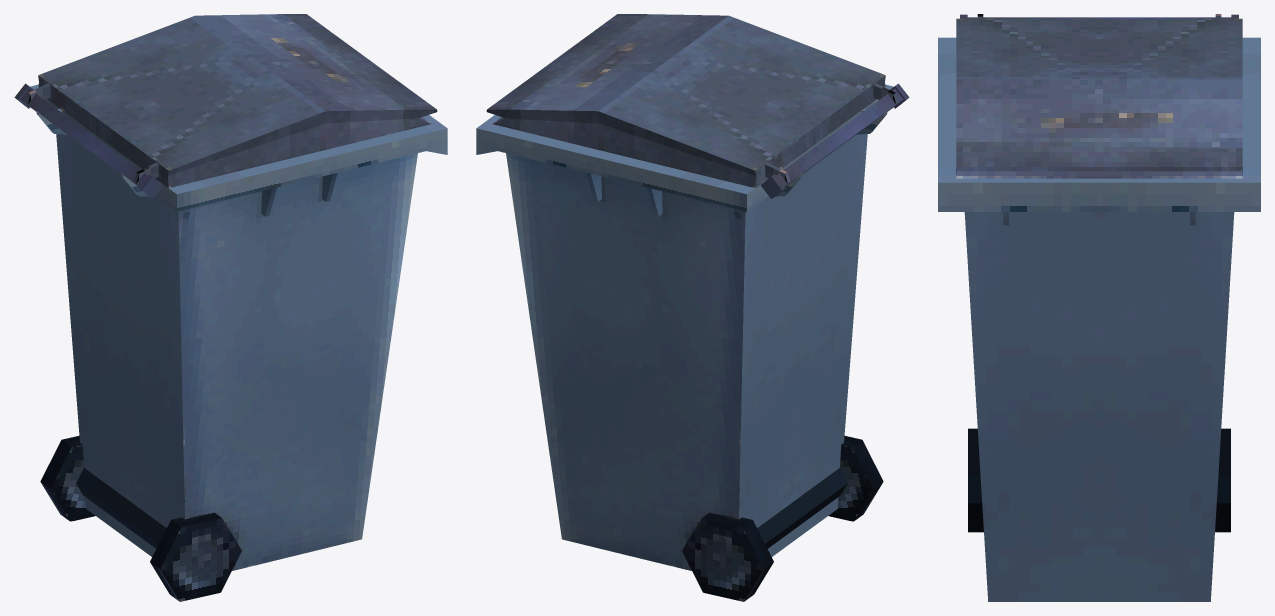
Rendered from trash_can_alt1.glb.
The picture shows the model from 3 angles, left to right: view 1: azimuth 30°, elevation 25°; view 2: azimuth 150°, elevation 25°; view 3: azimuth 270°, elevation 25°; orthographic projection. The views are drawn at different scales.
Parts seen in each view (by area): view 1: trash_can_alt1; view 2: trash_can_alt1; view 3: trash_can_alt1.
Part boxes in pixels (box(x1,y1,x2,y2)): trash_can_alt1: box(14, 14, 447, 601); trash_can_alt1: box(476, 14, 909, 601); trash_can_alt1: box(938, 14, 1260, 601).
Size of the model in its own units: 0.9058 by 1.35 by 0.7794.
1 material, 1 textured.
